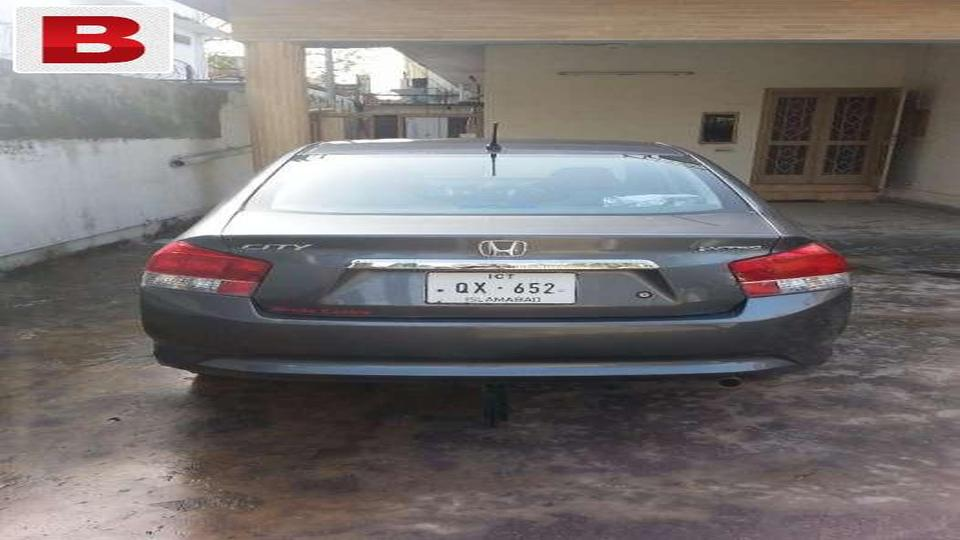NumberPlate: (423, 267, 581, 309)
